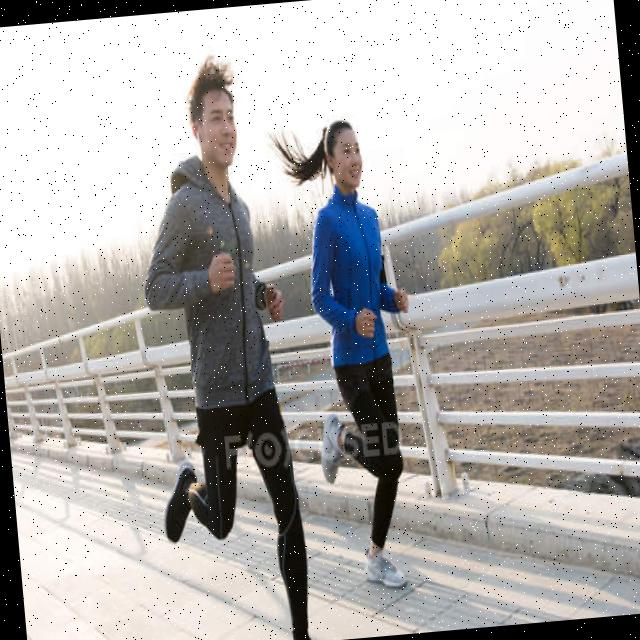Person: (122, 46, 341, 640), (267, 117, 435, 598)
